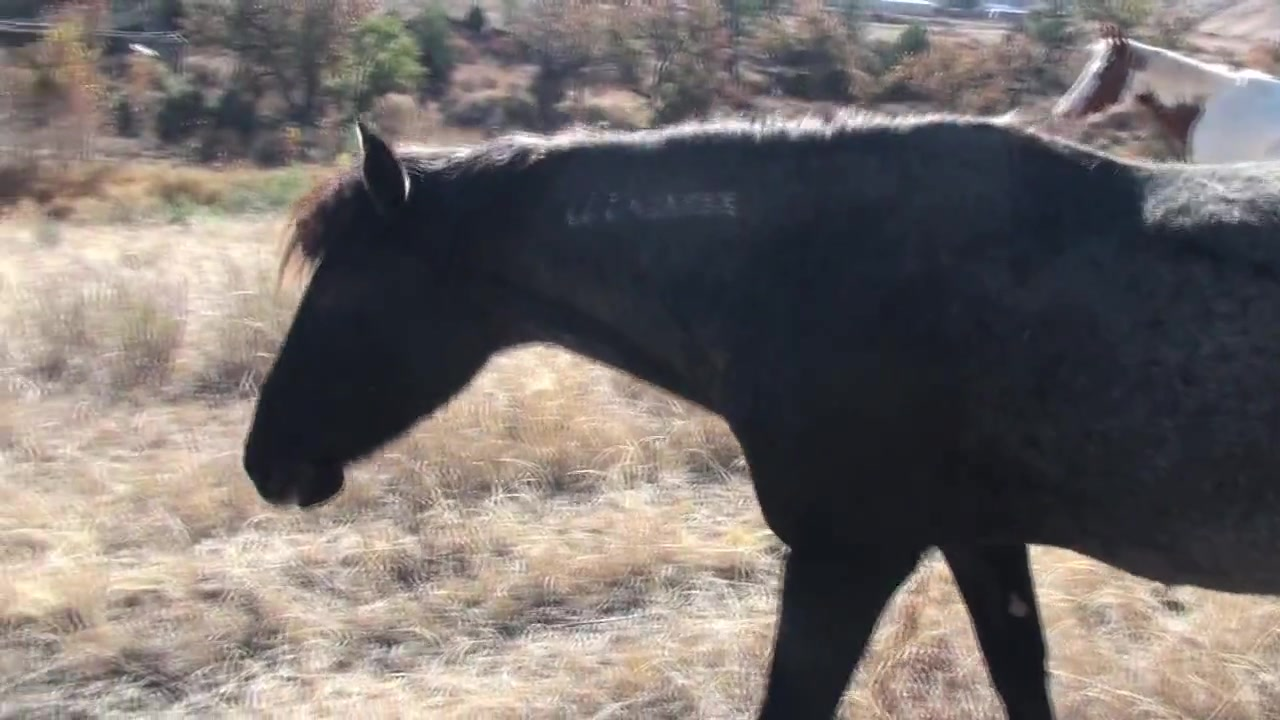horse: (240, 104, 1280, 720)
